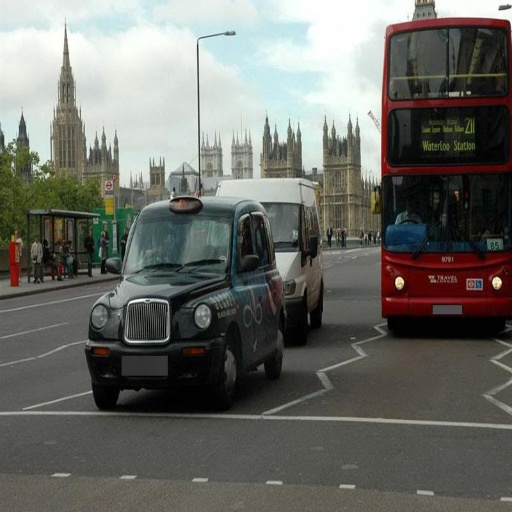front_glass: (123, 201, 232, 274)
trunk: (398, 247, 486, 297), (118, 297, 166, 341), (396, 75, 446, 107)
